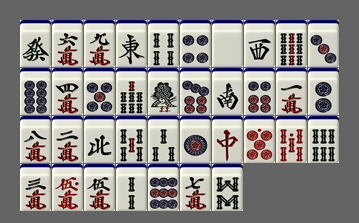0m: (52, 164, 83, 211)
0p: (244, 116, 275, 163)
0s: (276, 116, 307, 163)
1m: (276, 68, 307, 115)
1p: (180, 116, 211, 163)
1s: (148, 68, 179, 115)
1z: (116, 20, 147, 67)
2m: (52, 116, 83, 163)
2p: (308, 68, 339, 115)
2s: (116, 164, 147, 211)
2z: (212, 68, 243, 115)
3m: (20, 164, 51, 211)
3p: (308, 20, 339, 67)
3s: (148, 116, 179, 163)
3z: (244, 20, 275, 67)
4m: (52, 68, 83, 115)
4p: (180, 20, 211, 67)
4s: (148, 20, 179, 67)
4z: (84, 116, 115, 163)
5m: (84, 164, 115, 211)
5p: (84, 68, 115, 115)
5s: (116, 116, 147, 163)
5z: (212, 20, 243, 67)
6m: (52, 20, 83, 67)
6p: (244, 68, 275, 115)
6s: (308, 116, 339, 163)
6z: (20, 20, 51, 67)
7m: (180, 164, 211, 211)
7p: (180, 68, 211, 115)
7s: (116, 68, 147, 115)
7z: (212, 116, 243, 163)
8m: (20, 116, 51, 163)
8p: (20, 68, 51, 115)
8s: (212, 164, 243, 211)
9m: (84, 20, 115, 67)
9p: (148, 164, 179, 211)
9s: (276, 20, 307, 67)
